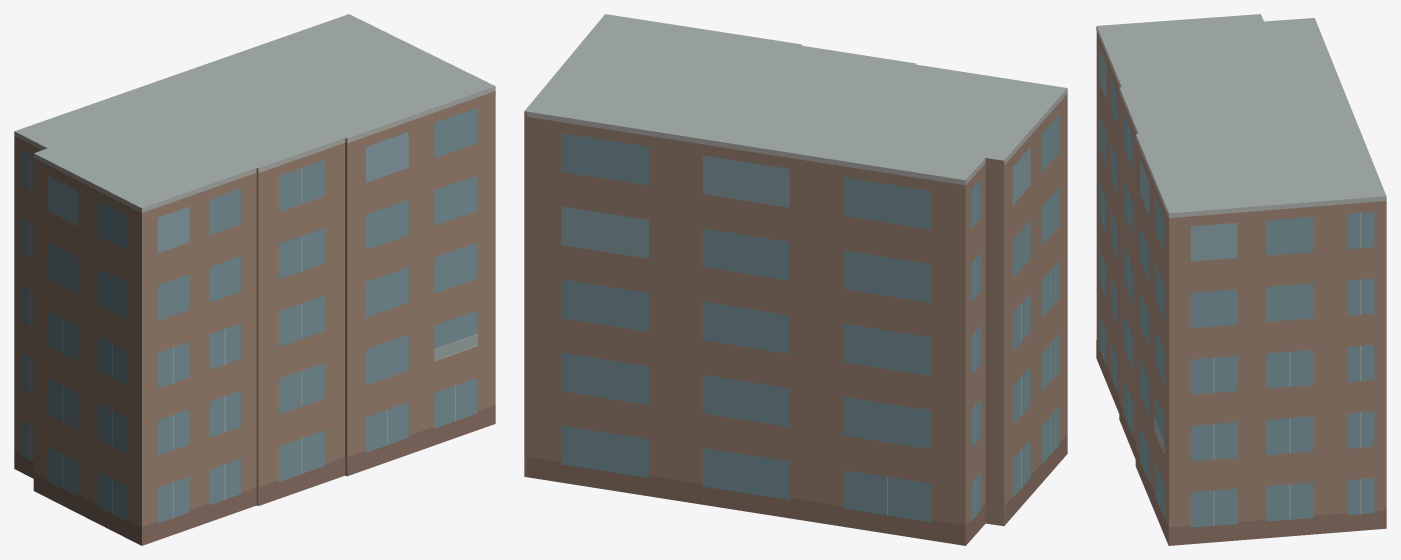
The model's file is survey-upis-32922728.glb.
3 renders of one model, left to right at view 1: azimuth 30°, elevation 25°; view 2: azimuth 150°, elevation 25°; view 3: azimuth 270°, elevation 25°, orthographic. The views are drawn at different scales.
Parts seen in each view (by area): view 1: survey-upis-32922728.tmp; view 2: survey-upis-32922728.tmp; view 3: survey-upis-32922728.tmp.
Part boxes in pixels (x1,y1,x2,y2): survey-upis-32922728.tmp: (14,14,495,545); survey-upis-32922728.tmp: (524,14,1067,545); survey-upis-32922728.tmp: (1096,14,1386,545).
Size of the model in its own units: 22.14 by 17.2 by 13.61.
